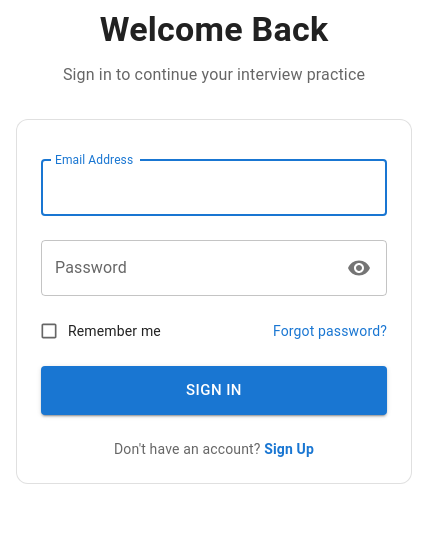
Login Component › Form Validation › shows error when submitting empty form
Click the button "Sign In". click: (214, 390)
box: [41,366,387,414]
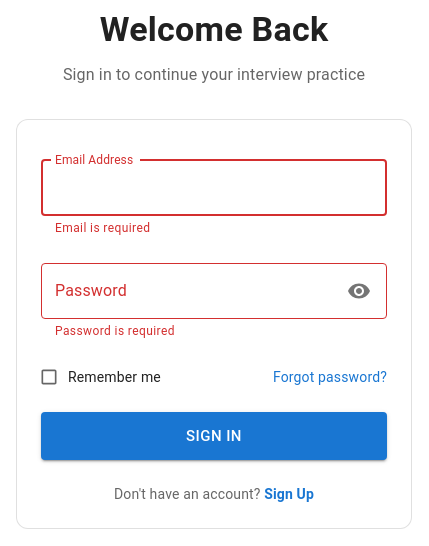
Expected: the text "Email is required" is shown, [55,221,150,235]
Expected: the text "Password is required" is shown, [55,324,175,338]
